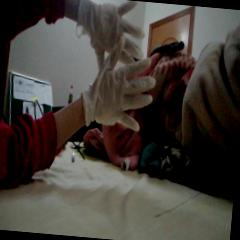gloved: (81, 33, 159, 132), (71, 0, 149, 80)
